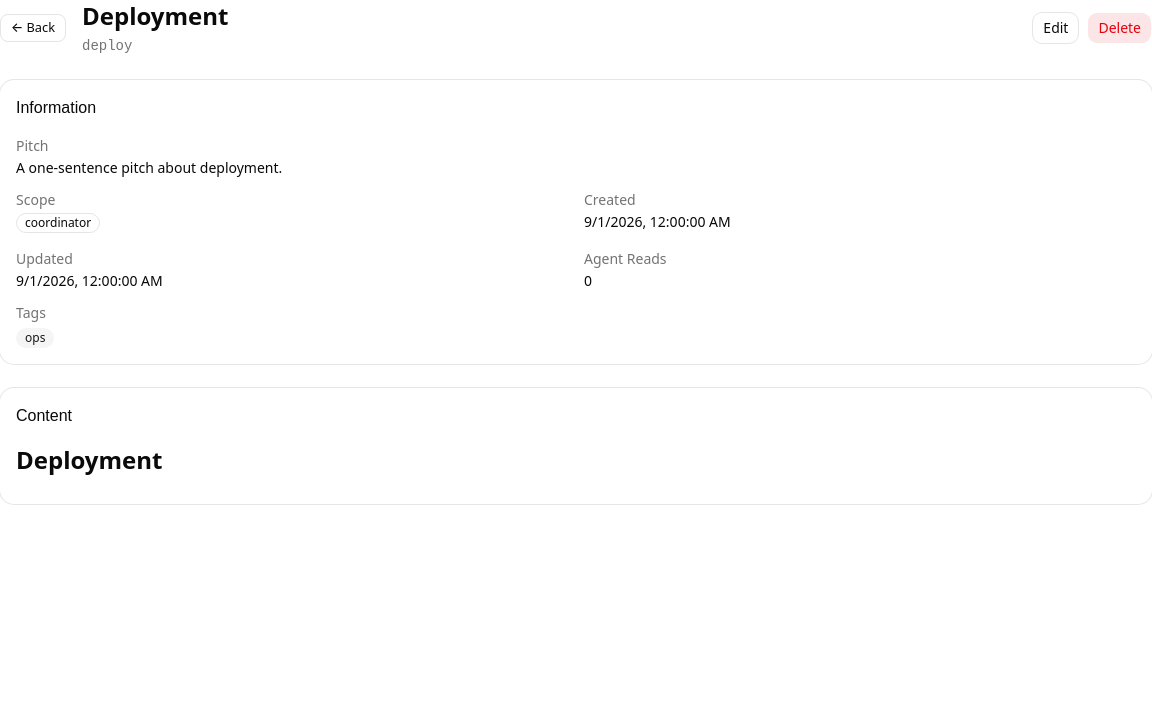
Test: WikiDetailPage delete error handling › shows an error toast and stays on the page when delete fails
Click the button "Delete".
click(1120, 28)  # box [1087,12,1151,44]
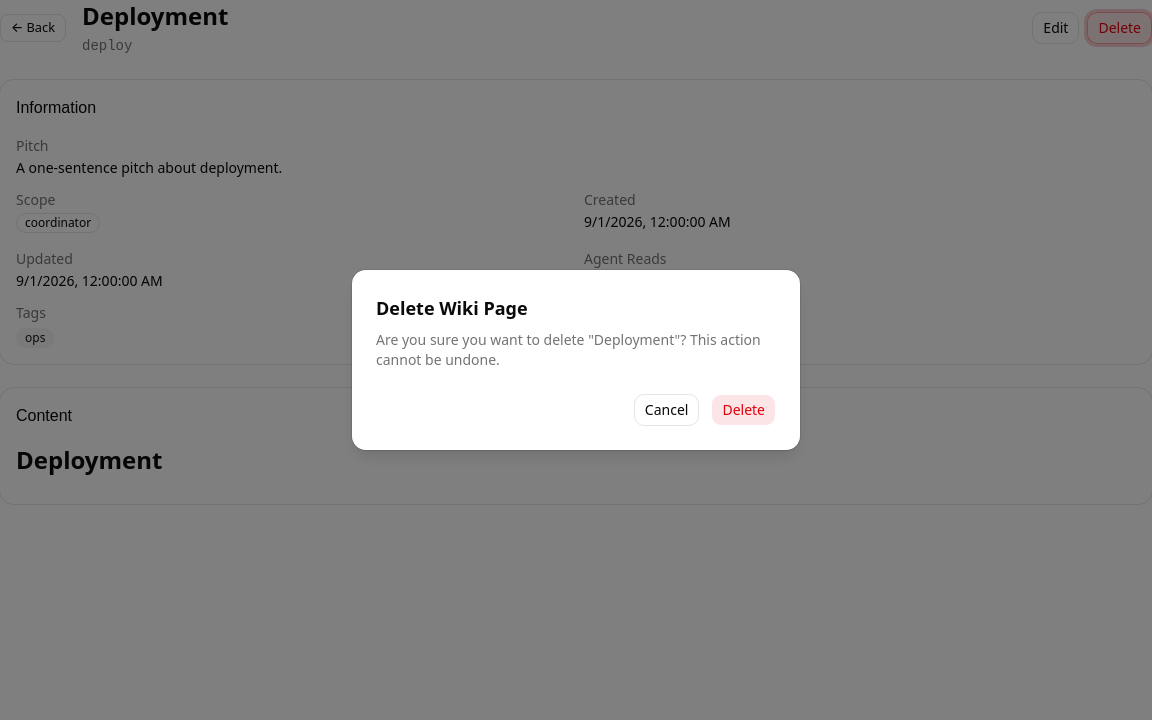
Click the button "Delete".
click(744, 410)  # box [711,394,776,426]
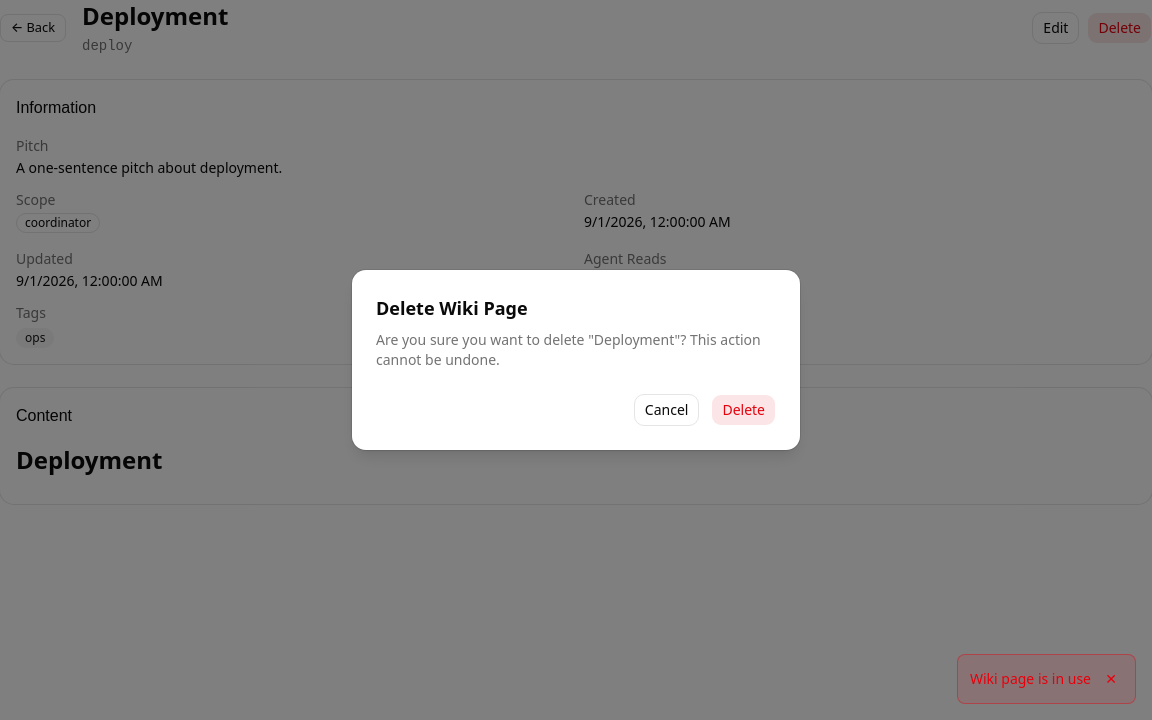
Expected: the text "Pitch" is shown, [16,136,48,155]
Expected: the message shows "Wiki page is in use", [970,669,1091,688]
